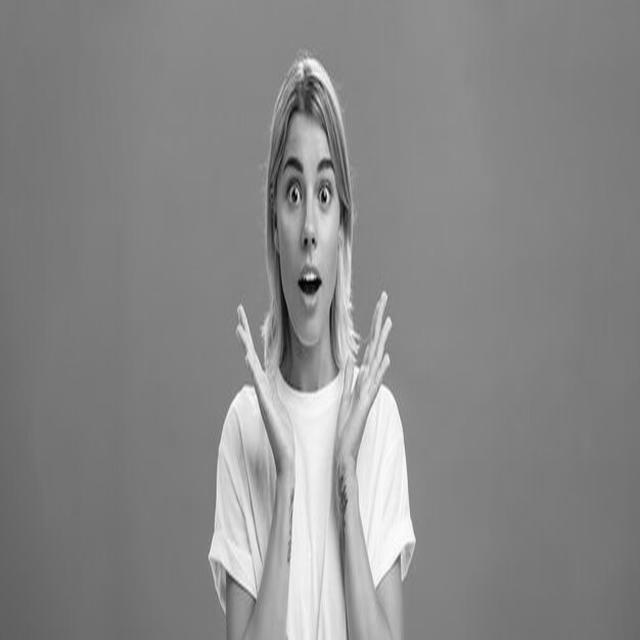Surprised: (275, 113, 341, 347)
